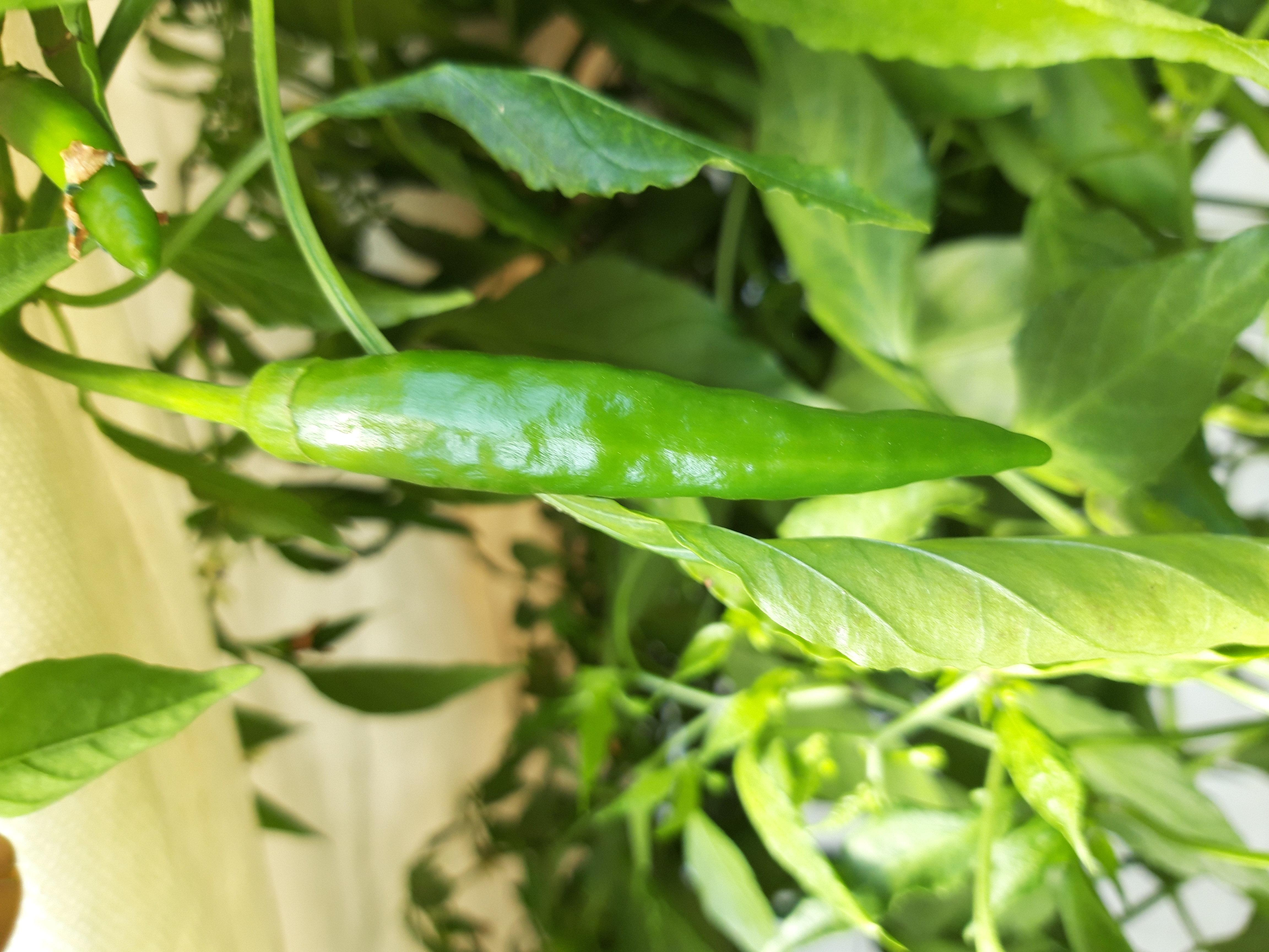Buah Cabai Sehat: (237, 345, 1053, 503)
